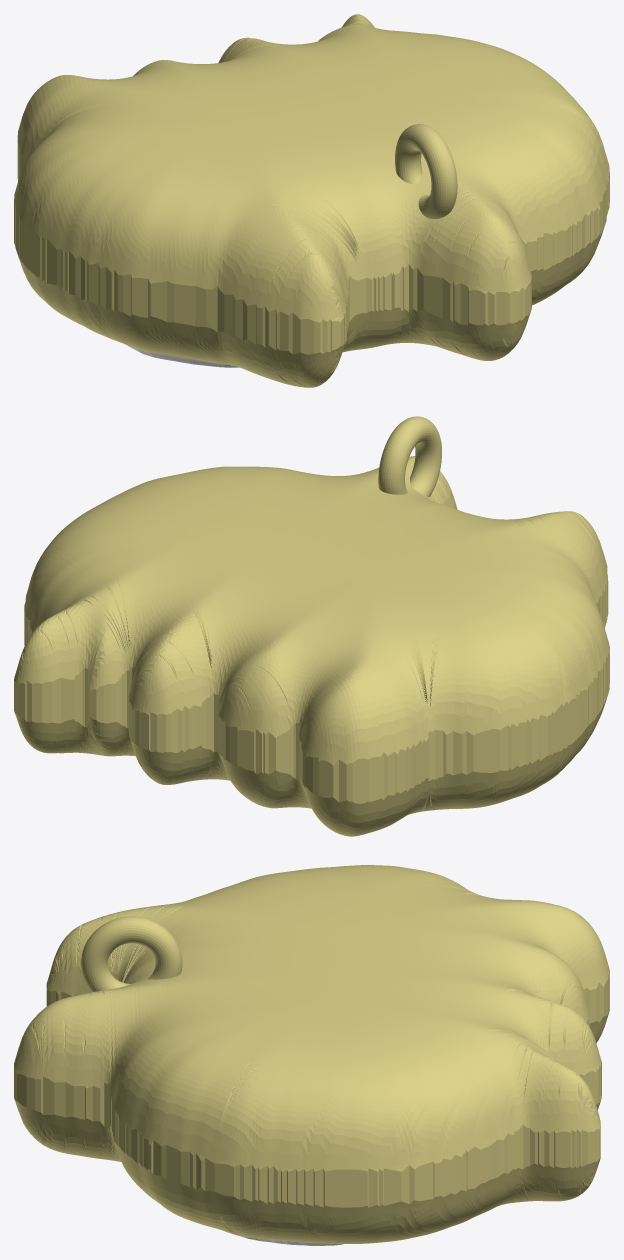
File: 524-keychain-40mm.glb
3 views of the same model, one above another, from view 1: azimuth 30°, elevation 25°; view 2: azimuth 150°, elevation 25°; view 3: azimuth 270°, elevation 25° (orthographic). The views are drawn at different scales.
Parts seen in each view (by area): view 1: yellow; view 2: yellow; view 3: yellow.
Part boxes in pixels (bbox=[...]): yellow: bbox=[14, 14, 609, 387]; yellow: bbox=[14, 416, 609, 836]; yellow: bbox=[14, 865, 609, 1243].
Bounding box in the file's own units: 41.3 × 18.05 × 40.
